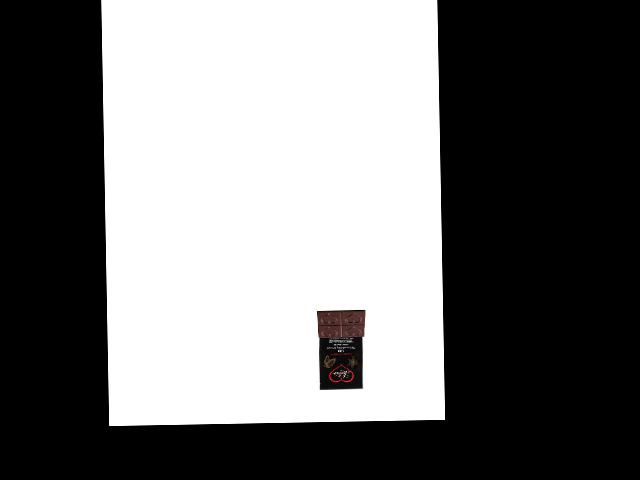chocolate: (315, 306, 370, 390)
